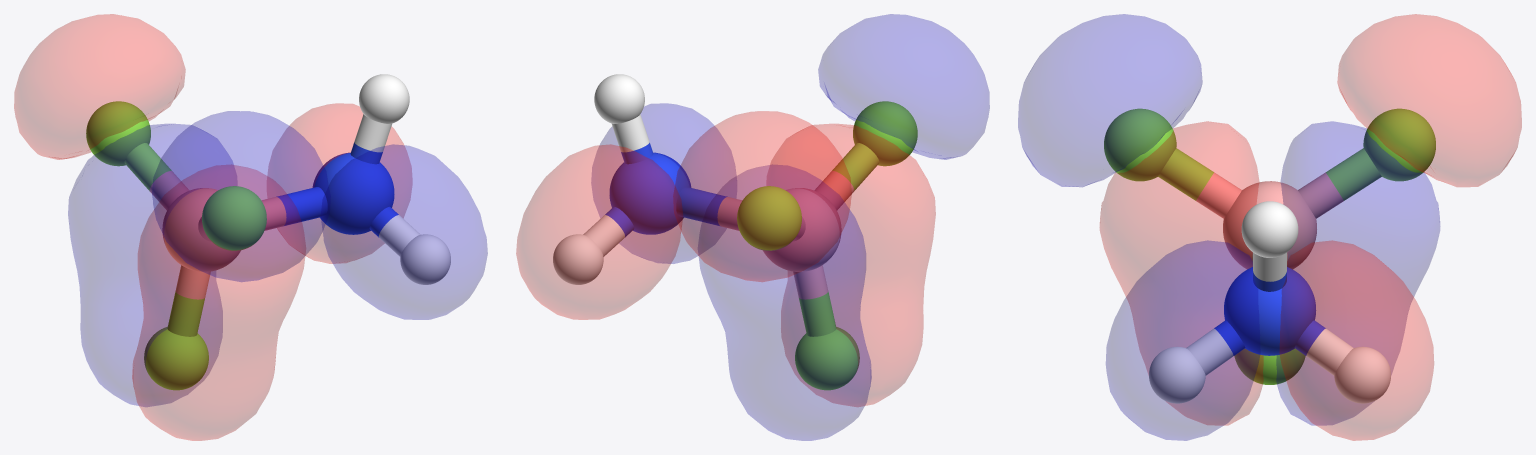
The picture shows the model from 3 angles, left to right: view 1: azimuth 30°, elevation 25°; view 2: azimuth 150°, elevation 25°; view 3: azimuth 270°, elevation 25°; orthographic projection. The views are drawn at different scales.
Visible parts, largest first — view 1: surface (×2), atoms, bonds; view 2: surface (×2), atoms, bonds; view 3: surface (×2), atoms, bonds.
Boxes of the visible parts, bbox=[...] form: surface (×2): bbox=[14, 14, 487, 440]; atoms: bbox=[86, 74, 450, 390]; bonds: bbox=[124, 114, 420, 336]; surface (×2): bbox=[516, 14, 989, 440]; atoms: bbox=[553, 74, 917, 390]; bonds: bbox=[583, 114, 879, 336]; surface (×2): bbox=[1018, 14, 1521, 440]; atoms: bbox=[1104, 108, 1435, 403]; bonds: bbox=[1158, 148, 1381, 375].
Size of the model in its own units: 3.94 by 3.81 by 4.43.
